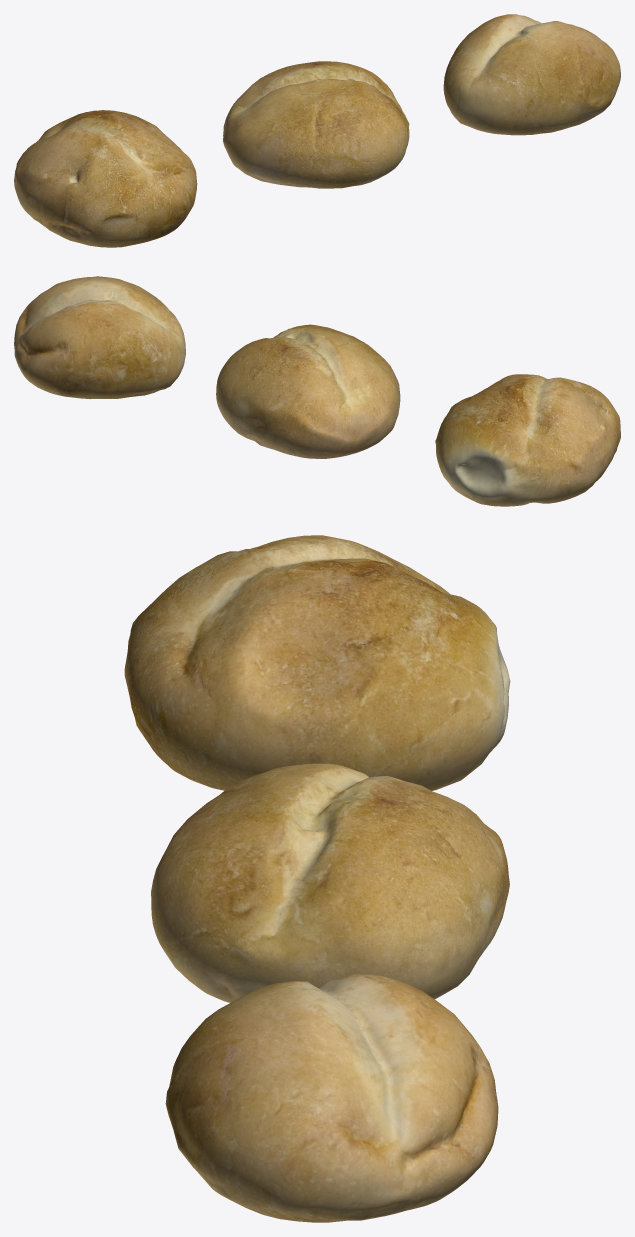
The model's file is hamburger_buns_1k.gltf.
3 renders of one model, top to bottom at view 1: azimuth 30°, elevation 25°; view 2: azimuth 150°, elevation 25°; view 3: azimuth 270°, elevation 25°, orthographic. The views are drawn at different scales.
Visible parts, largest first — view 1: hamburger_buns_01, hamburger_buns_02, hamburger_buns_03; view 2: hamburger_buns_01, hamburger_buns_02, hamburger_buns_03; view 3: hamburger_buns_01, hamburger_buns_02, hamburger_buns_03.
Part boxes in pixels (box(x1,y1,x2,y2)): hamburger_buns_01: box(14, 110, 197, 247); hamburger_buns_02: box(223, 61, 409, 188); hamburger_buns_03: box(443, 14, 620, 135); hamburger_buns_01: box(435, 374, 620, 506); hamburger_buns_02: box(216, 324, 400, 458); hamburger_buns_03: box(14, 276, 185, 399); hamburger_buns_01: box(124, 535, 510, 790); hamburger_buns_02: box(151, 763, 509, 1002); hamburger_buns_03: box(165, 974, 498, 1222).
Size of the model in its own units: 0.3972 by 0.0634 by 0.1138.
Materials: 1 (1 with a texture image).
